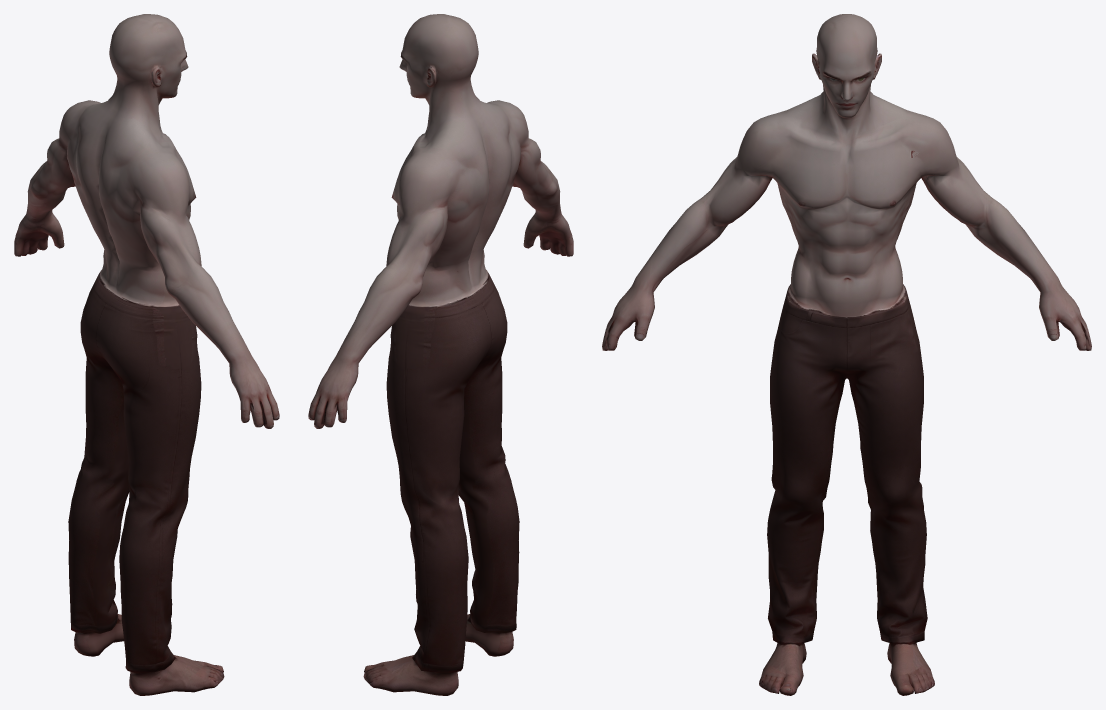
3 renders of one model, left to right at view 1: azimuth 30°, elevation 25°; view 2: azimuth 150°, elevation 25°; view 3: azimuth 270°, elevation 25°, orthographic.
Parts seen in each view (by area): view 1: tripo_node_009e4a3b; view 2: tripo_node_009e4a3b; view 3: tripo_node_009e4a3b.
Boxes of the visible parts, x1,y1,x2,y2 form: tripo_node_009e4a3b: (14, 14, 279, 695); tripo_node_009e4a3b: (308, 14, 573, 695); tripo_node_009e4a3b: (602, 14, 1091, 695).
Bounding box in the file's own units: 16.46 × 100 × 67.49.
Materials: 1 (1 with a texture image).
